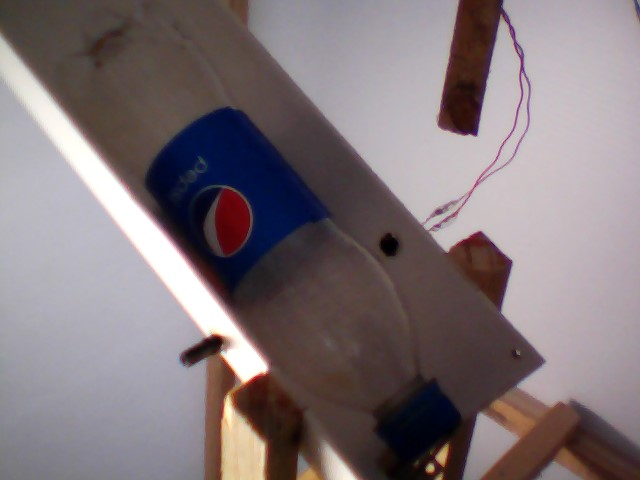plastico: (22, 2, 470, 470)
